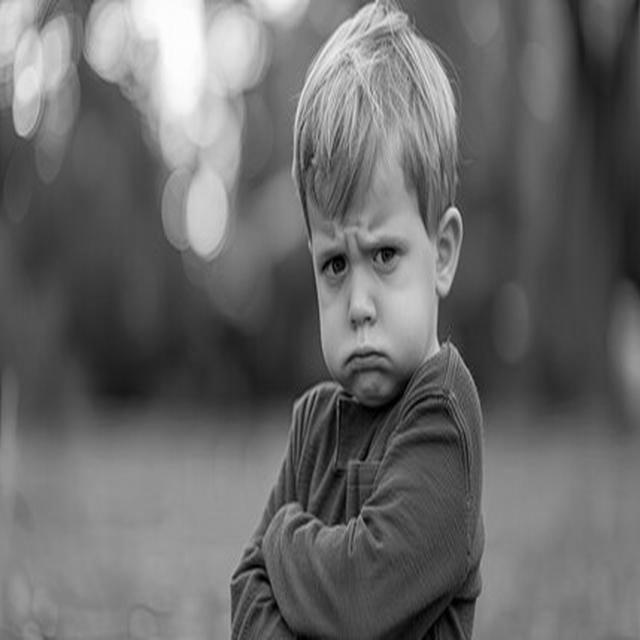Angry: (305, 138, 437, 406)
